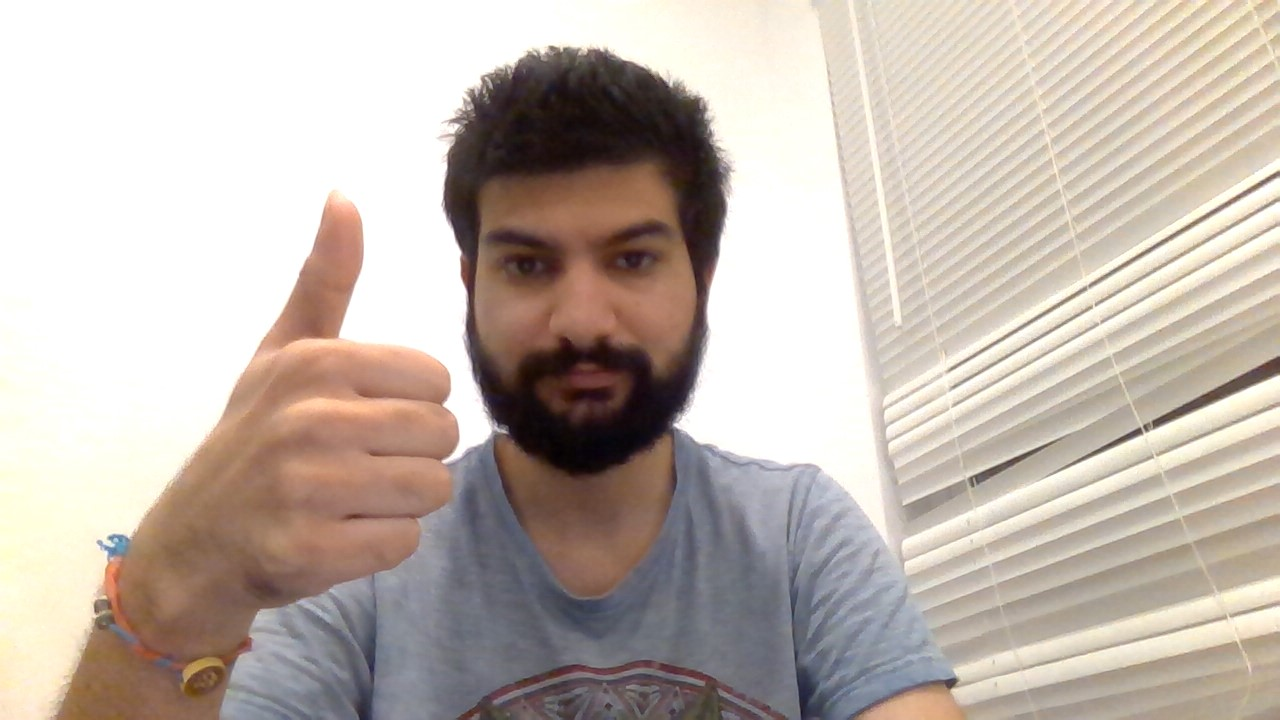up: (237, 183, 461, 596)
